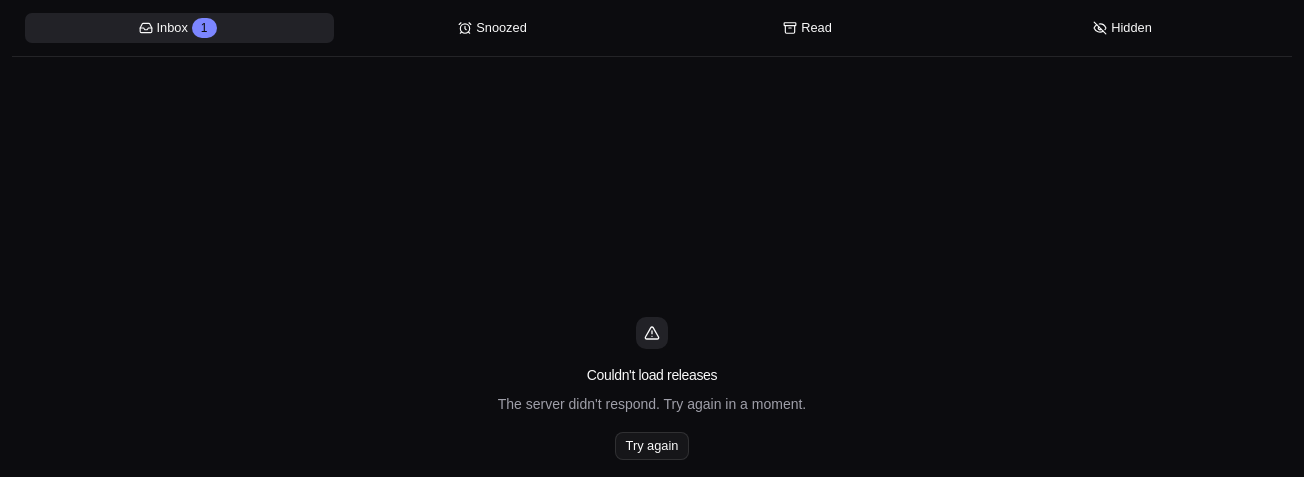
Test: inbox request failures › shows a failed list request and lets the user retry
Expected: the text "Couldn't load releases" is shown, [587,365,717,385]
What coordinates should you click on to do the following:
click the button "Try again"
I would click on:
 (652, 446)
Its box is [615,432,690,460].
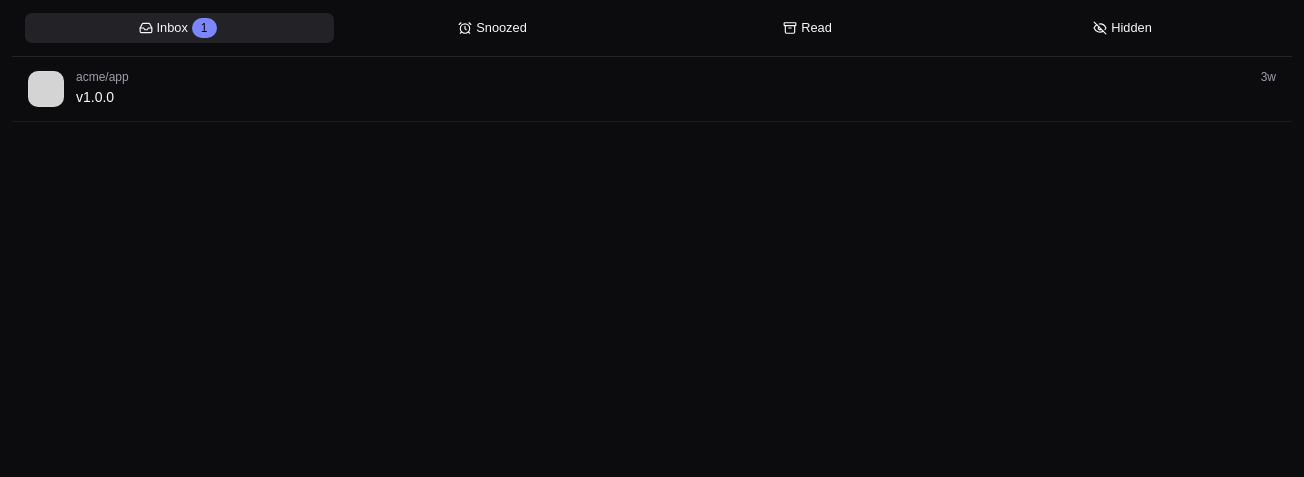
Expected: the text "acme/app" is shown, [76,69,129,85]
